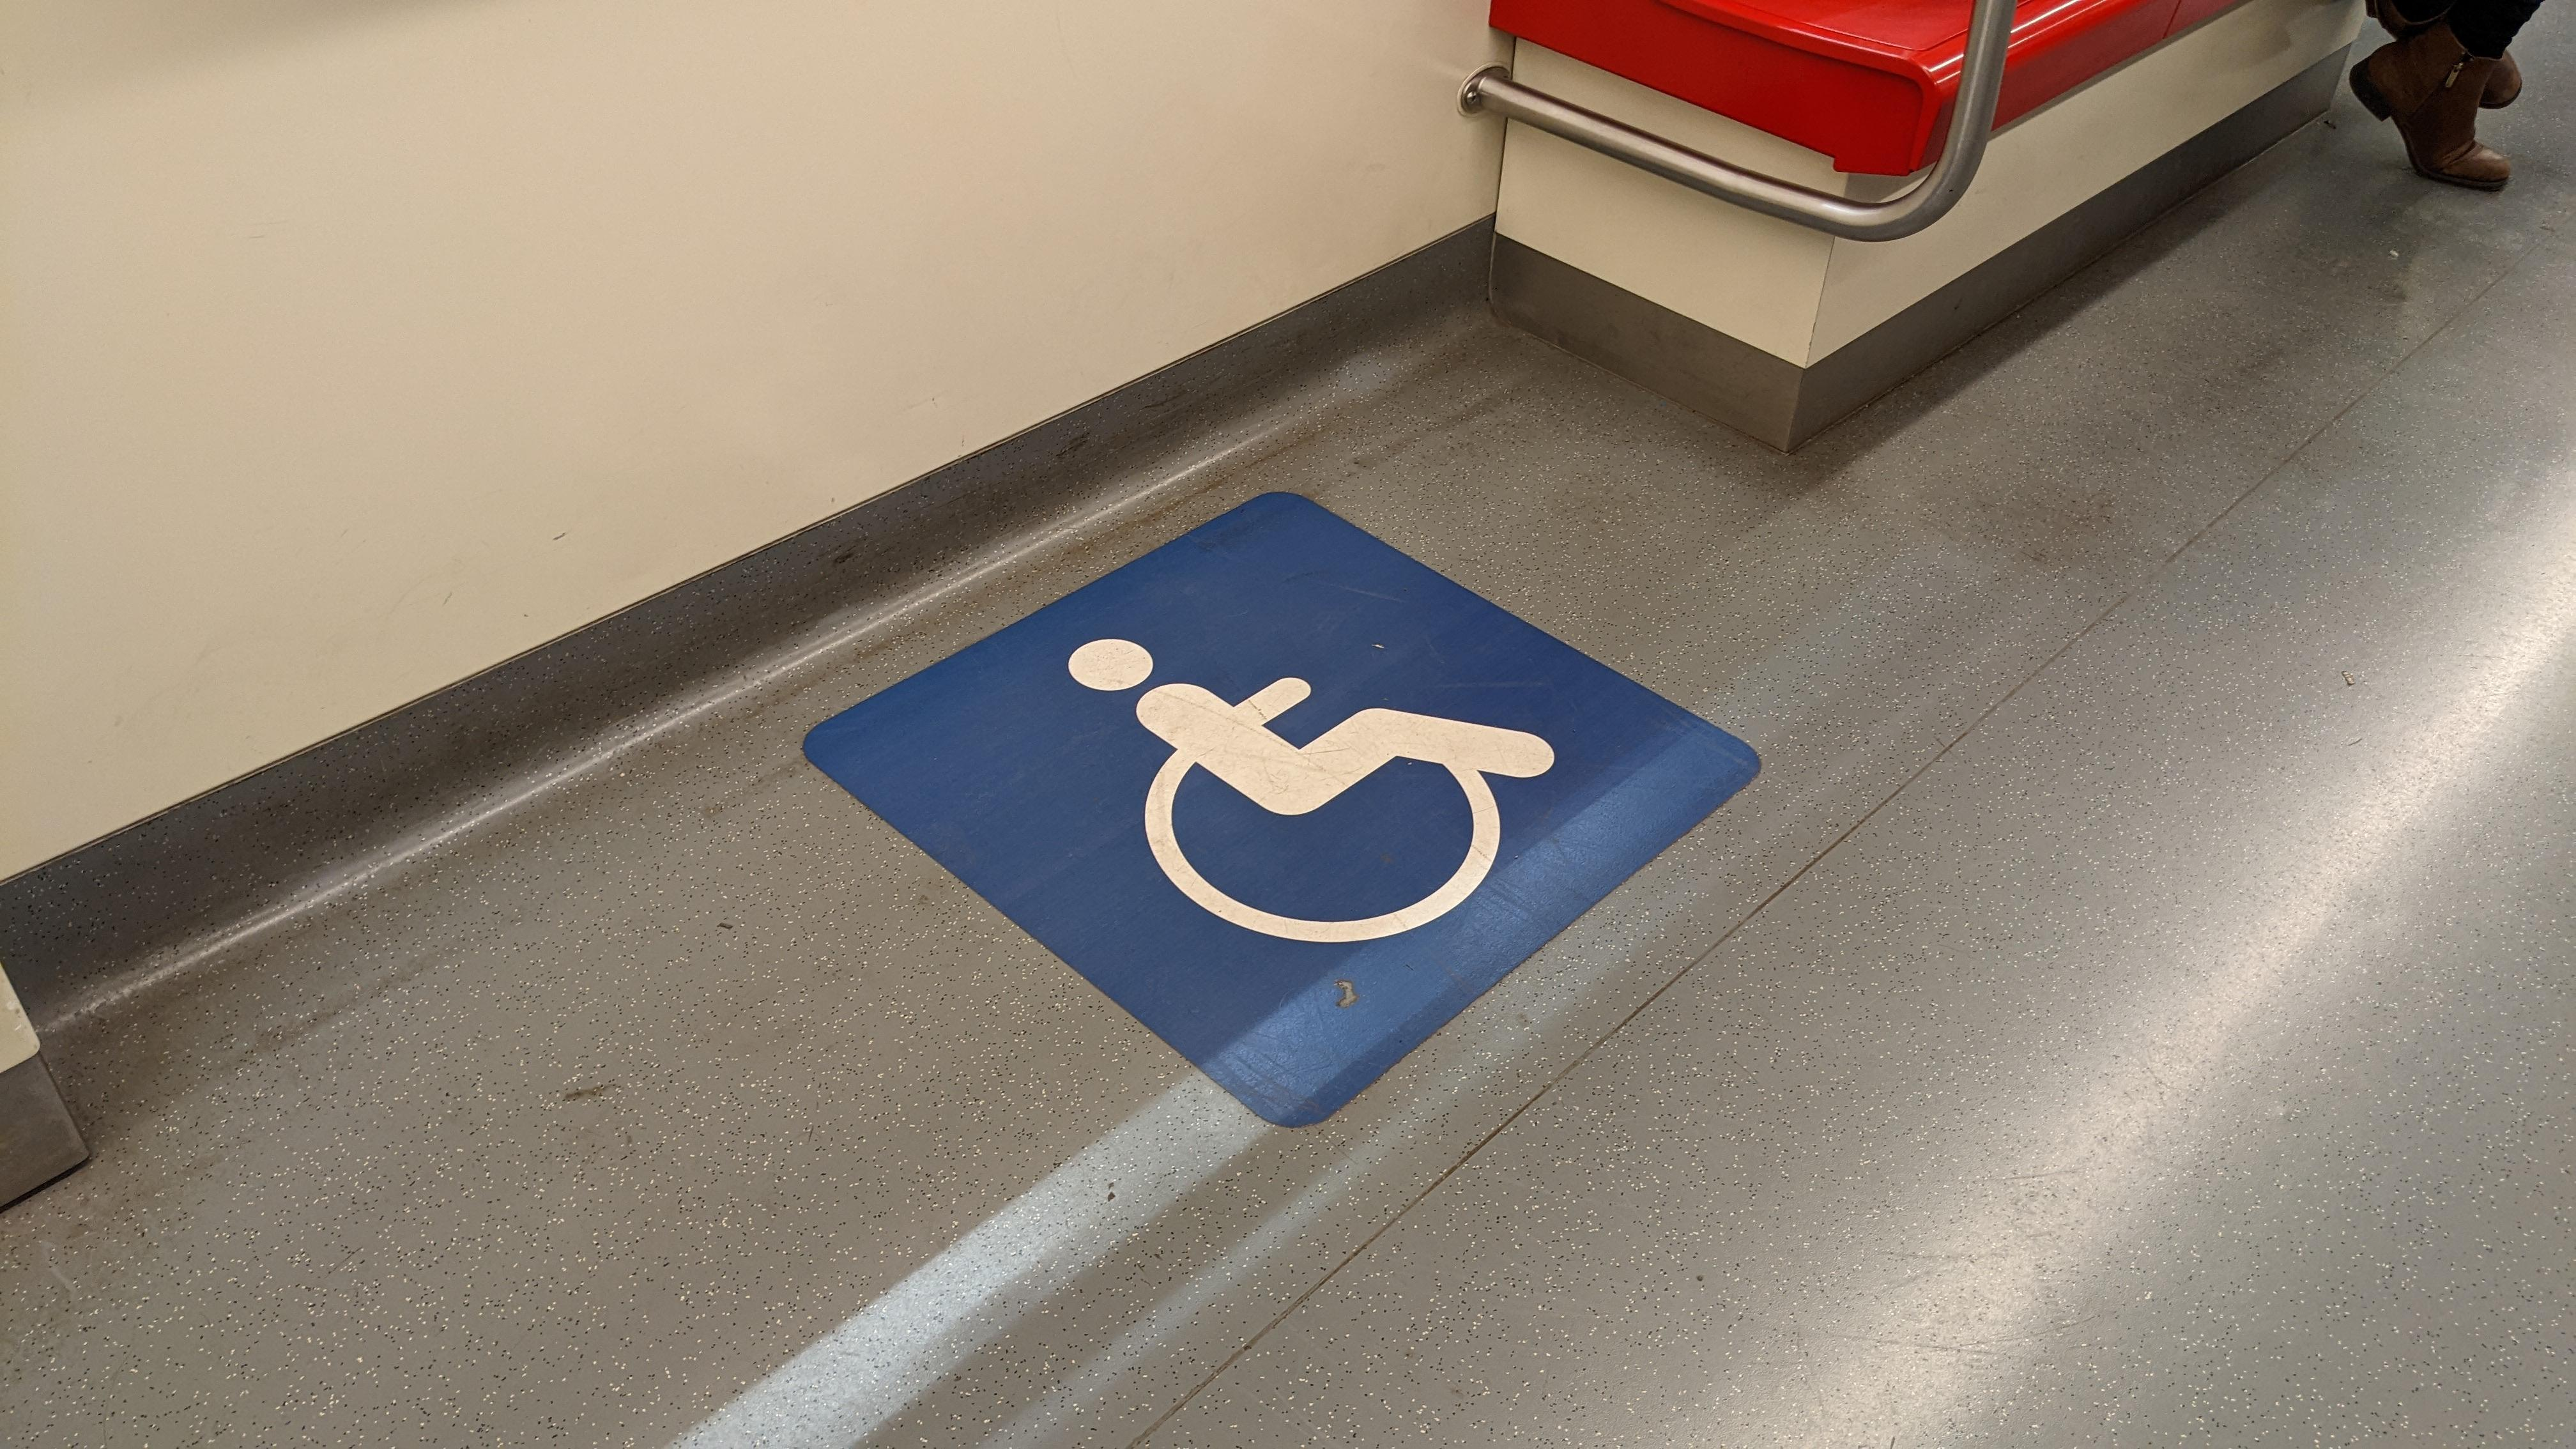handicapped symbol: (1066, 631, 1563, 947)
